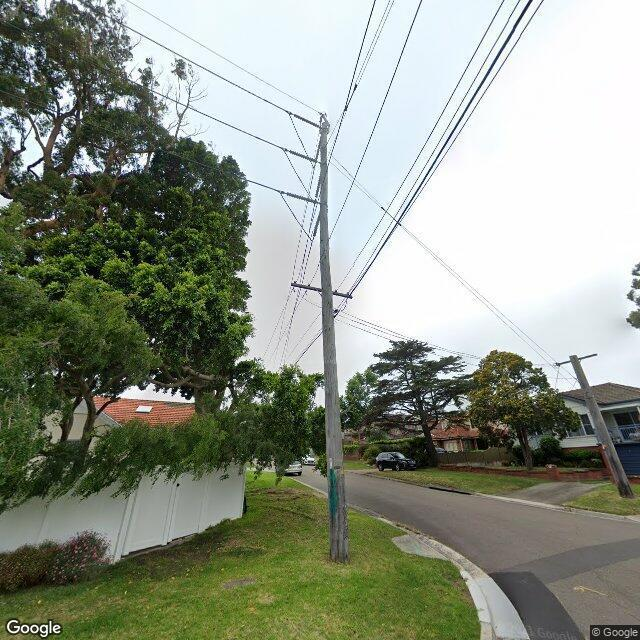HV-transmission: (279, 110, 329, 238)
crossarm: (291, 282, 352, 298), (556, 354, 596, 368)
timber-pole: (318, 113, 351, 562), (568, 354, 634, 499)
